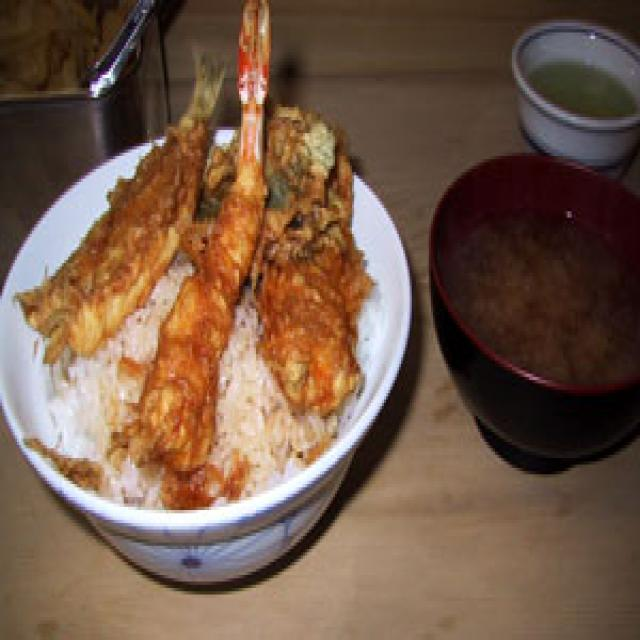汤锅炖物: (422, 140, 636, 393)
熟制海鲜: (0, 61, 422, 591)
